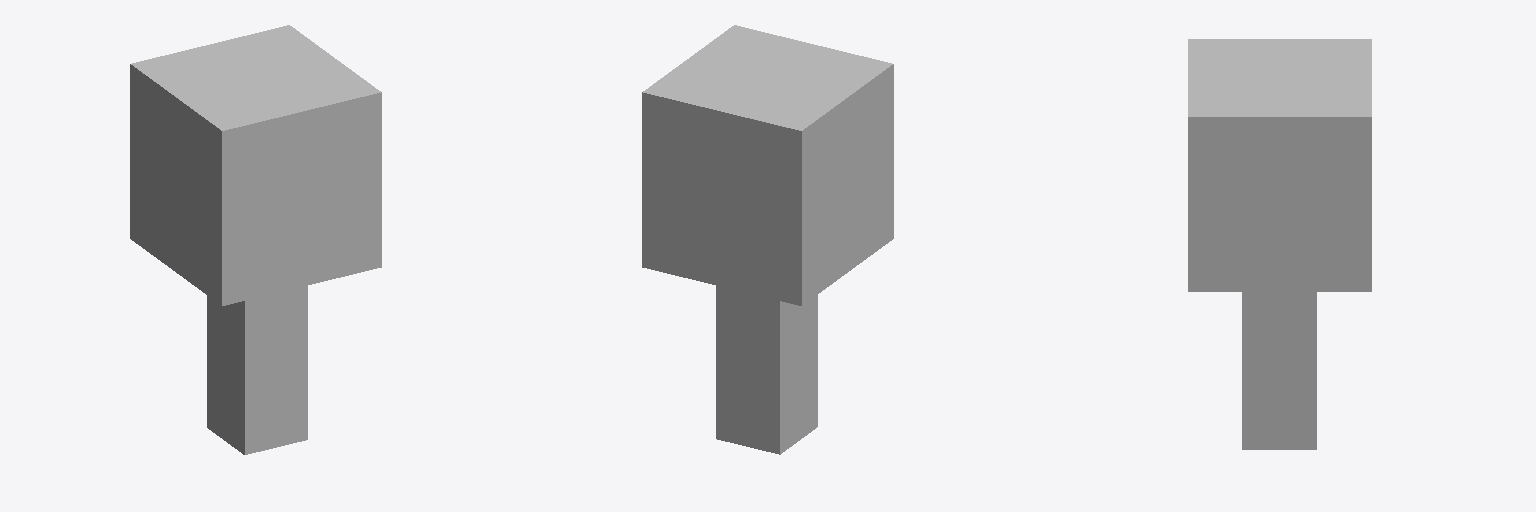
Rendered from Tall Tree 1.obj.
3 views of the same model, side by side, from view 1: azimuth 30°, elevation 25°; view 2: azimuth 150°, elevation 25°; view 3: azimuth 270°, elevation 25° (orthographic).
Parts seen in each view (by area): view 1: object 1; view 2: object 1; view 3: object 1.
Part boxes in pixels (x1,y1,x2,y2): object 1: (130,25,381,454); object 1: (642,25,893,454); object 1: (1188,39,1371,449).
Bounding box in the file's own units: 12 × 25.6 × 12.